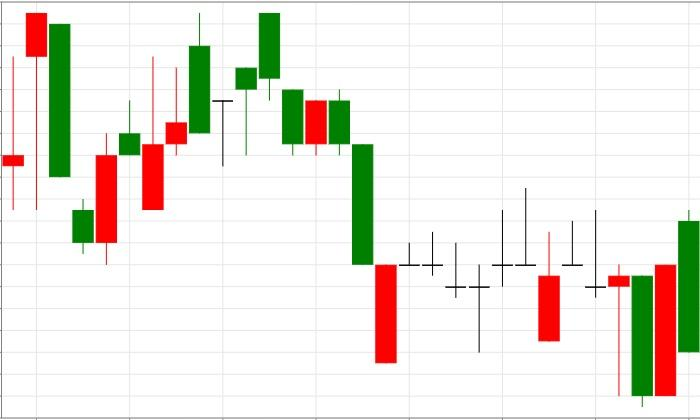bullish_engulfing_rise: (25, 12, 118, 266)
